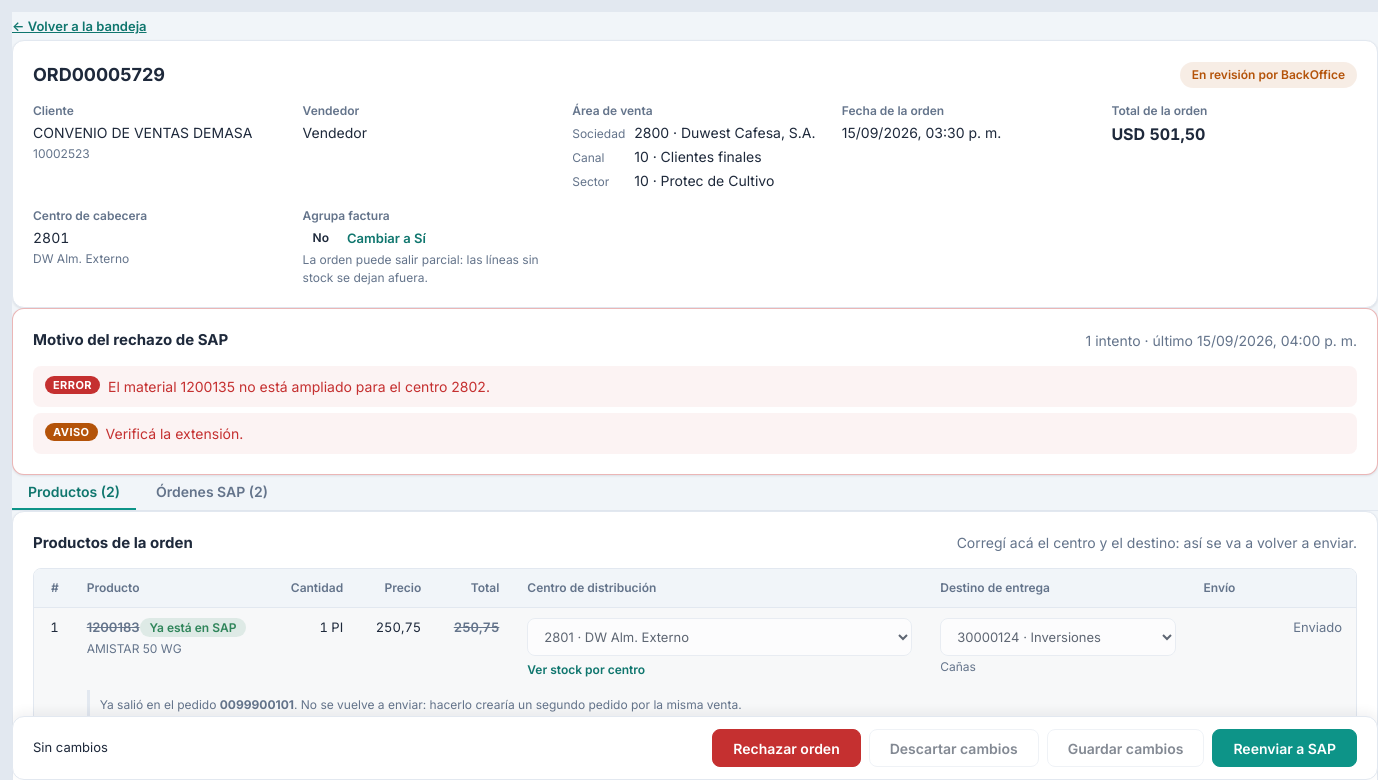
Test: ReviewOrderDetail › cada orden SAP muestra su centro y su estado, en su pestaña
The image size is (1378, 780).
Expected: the heading "ORD00005729" is shown, 33,61 -> 165,88
Expected: the text "Aceptada" is not shown
Click the tab "Órdenes SAP (2)" at (212, 492), box 140,474 -> 284,510
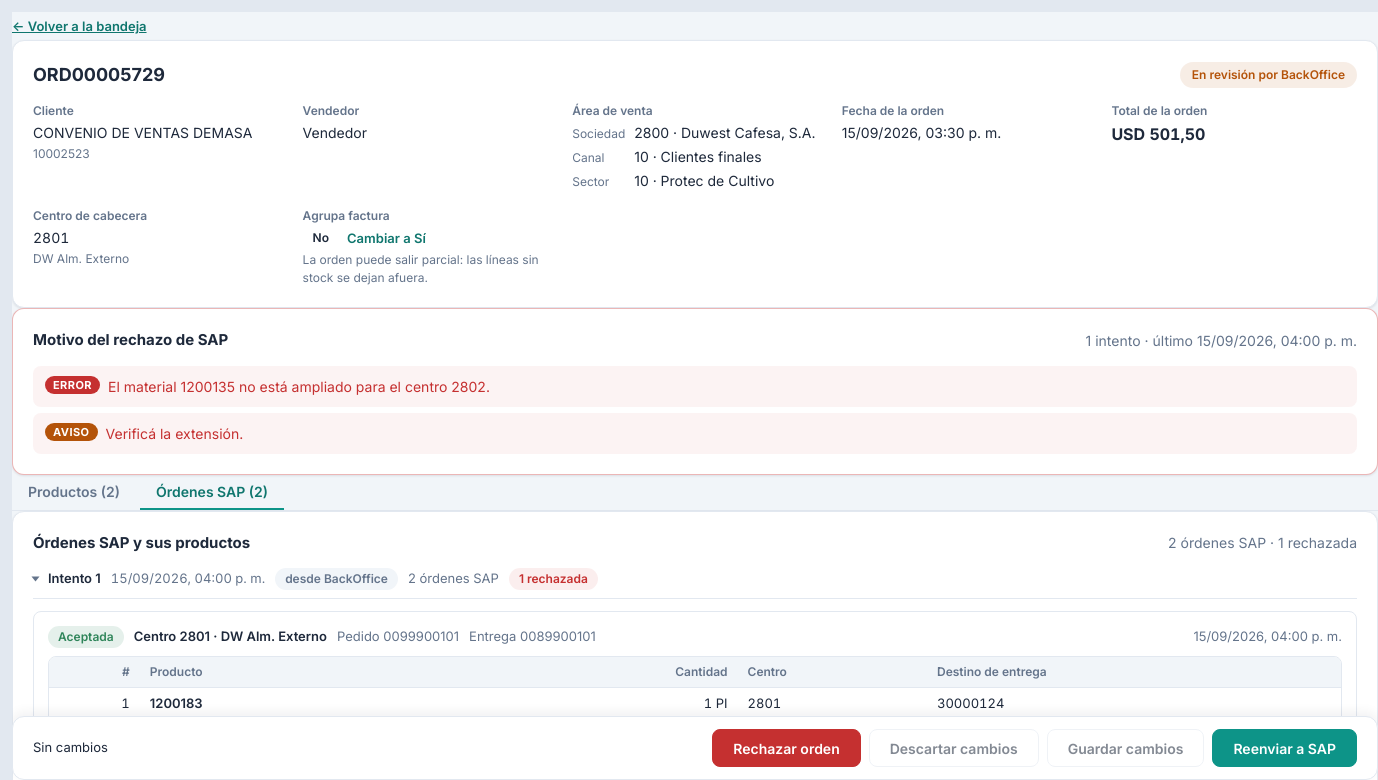
Expected: the text "Pedido 0099900101" is shown, 337,627 -> 459,647
Expected: the text "Centro 2801 · DW Alm. Externo" is shown, 134,627 -> 327,647
Expected: the text "Aceptada" is shown, 48,626 -> 124,648
